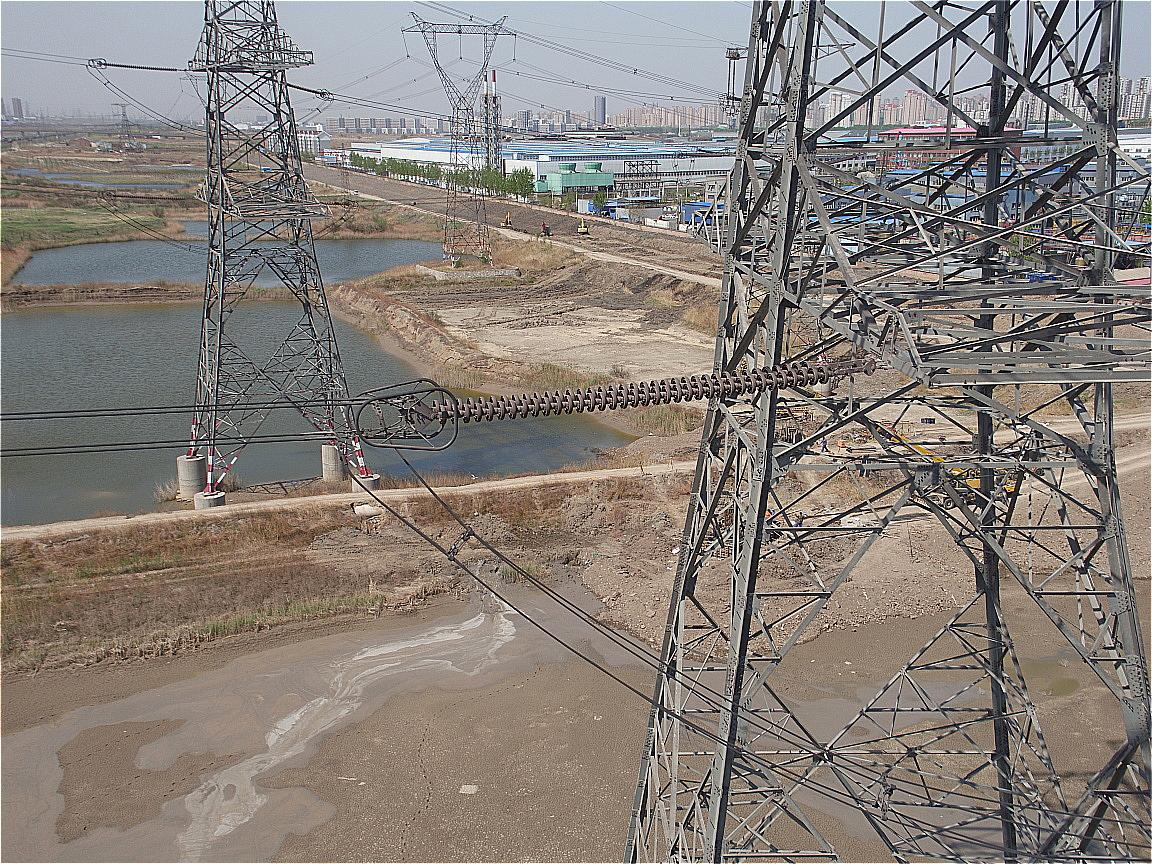insultor1: (424, 355, 853, 427)
